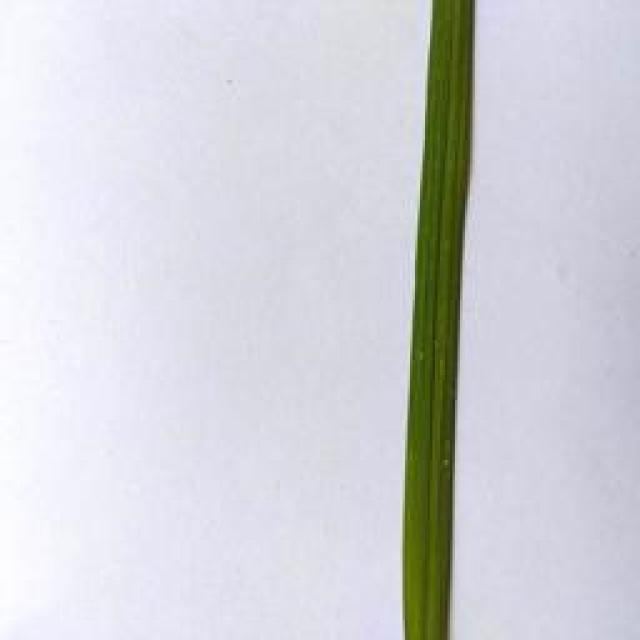Healthy-Plant: (402, 0, 477, 640)
